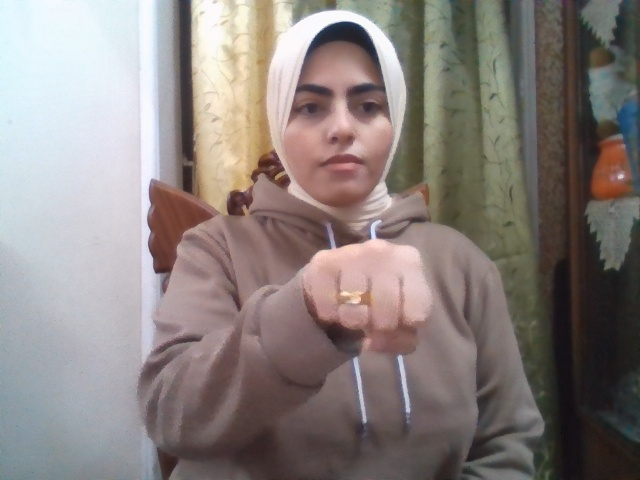yes: (303, 239, 432, 356)
